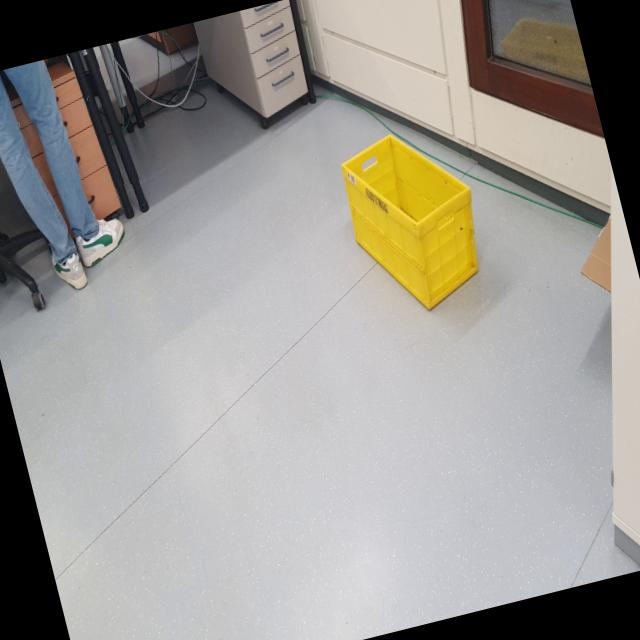box: (326, 107, 507, 343)
